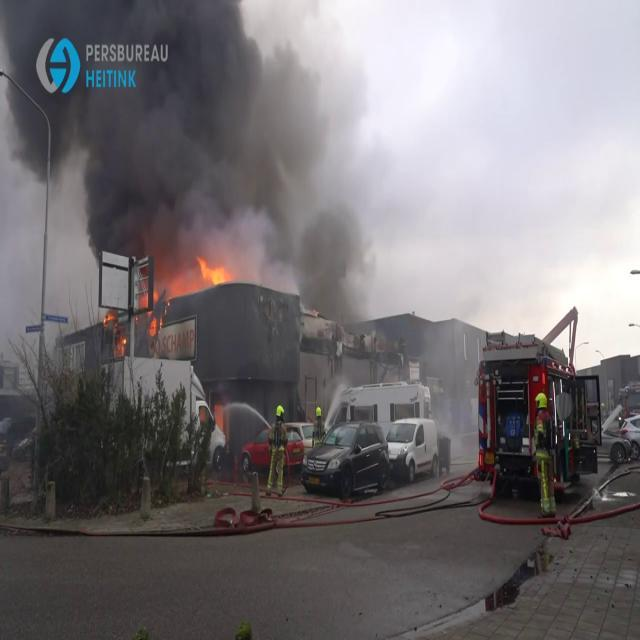Fire: (166, 252, 237, 296)
Smoke: (0, 0, 362, 252)
